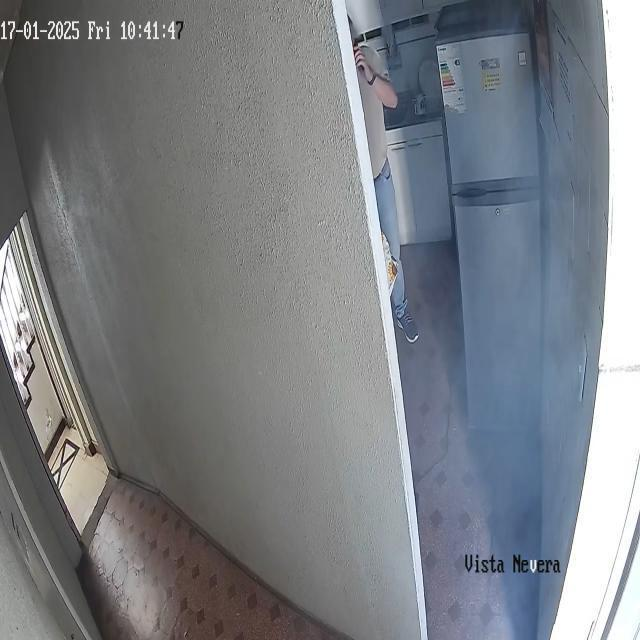fire: (404, 0, 570, 604)
